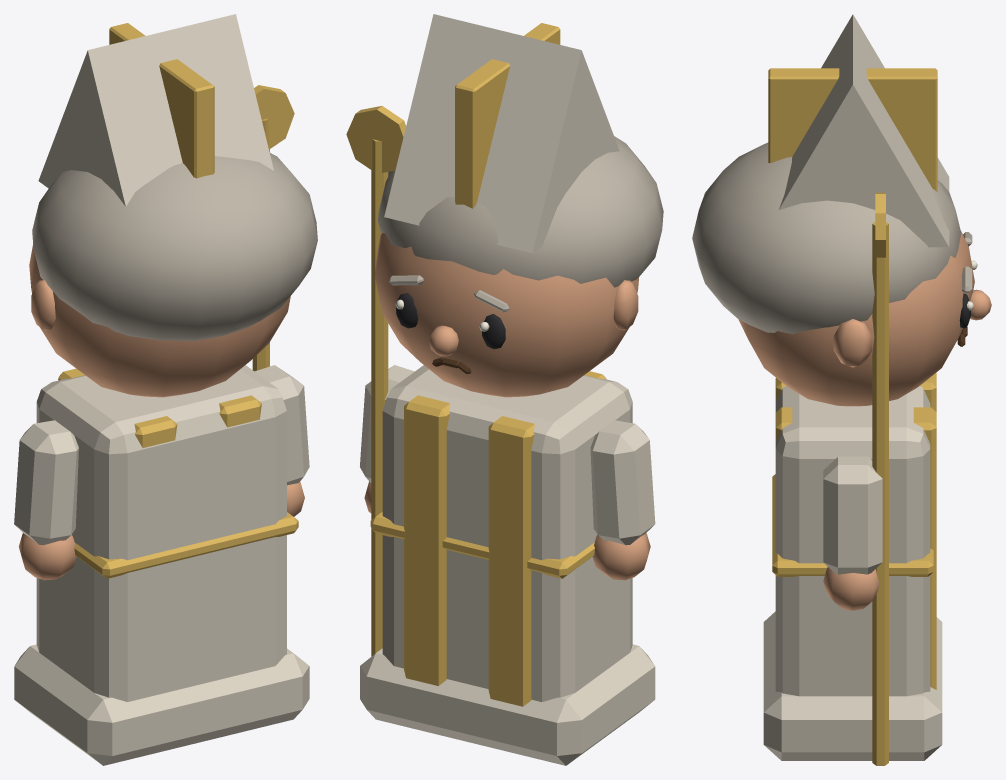
The model's file is bishop.fbx.
The picture shows the model from 3 angles, left to right: view 1: azimuth 30°, elevation 25°; view 2: azimuth 150°, elevation 25°; view 3: azimuth 270°, elevation 25°; orthographic projection. The views are drawn at different scales.
Visible parts, largest first — view 1: Body, Head, ArmL, ArmR, Weapon; view 2: Body, Head, ArmL, Weapon, ArmR; view 3: Head, Body, Weapon, ArmR.
Boxes of the visible parts, x1=… form: Body: x1=14, y1=365, x2=309, y2=765; Head: x1=29, y1=14, x2=317, y2=397; ArmL: x1=14, y1=420, x2=78, y2=580; ArmR: x1=254, y1=365, x2=309, y2=516; Weapon: x1=252, y1=85, x2=294, y2=371; Body: x1=360, y1=365, x2=655, y2=765; Head: x1=375, y1=14, x2=663, y2=397; ArmL: x1=590, y1=420, x2=655, y2=580; Weapon: x1=346, y1=106, x2=405, y2=656; ArmR: x1=360, y1=365, x2=414, y2=513; Head: x1=692, y1=14, x2=991, y2=406; Body: x1=763, y1=372, x2=942, y2=760; Weapon: x1=872, y1=192, x2=888, y2=765; ArmR: x1=823, y1=456, x2=882, y2=610.
Size of the model in its own units: 0.4629 by 0.4332 by 1.06.
